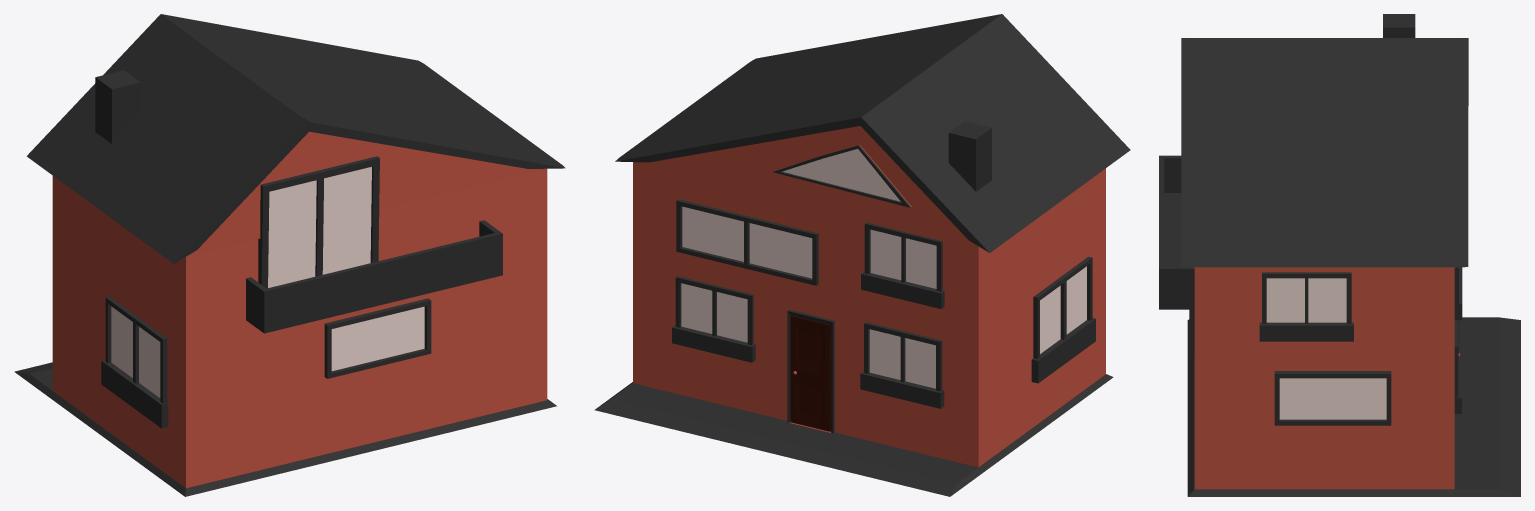
File: mediumhouse.obj
The picture shows the model from 3 angles, left to right: view 1: azimuth 30°, elevation 25°; view 2: azimuth 150°, elevation 25°; view 3: azimuth 270°, elevation 25°; orthographic projection. The views are drawn at different scales.
Parts seen in each view (by area): view 1: Cube.002; view 2: Cube.002; view 3: Cube.002.
Boxes of the visible parts, <box> form: Cube.002: <box>14,14,565,496</box>; Cube.002: <box>594,14,1130,496</box>; Cube.002: <box>1159,14,1520,496</box>.
Bounding box in the file's own units: 3.4 × 2.88 × 2.79.
